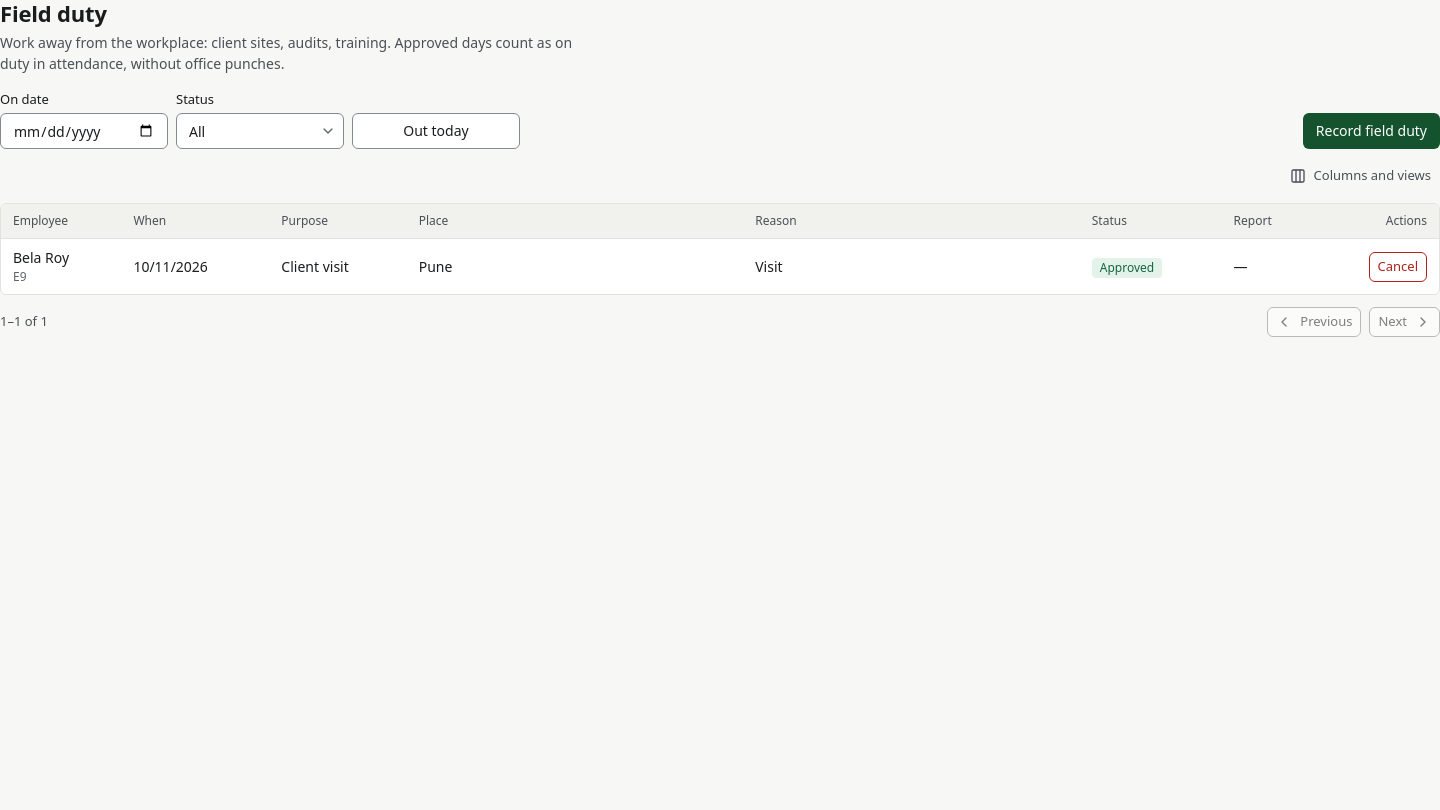
it: everyone › cancelling someone's duty names them, needs a reason and posts it
Click the button "Cancel" at point(1398, 266), box x1=1368 y1=252 x2=1427 y2=282
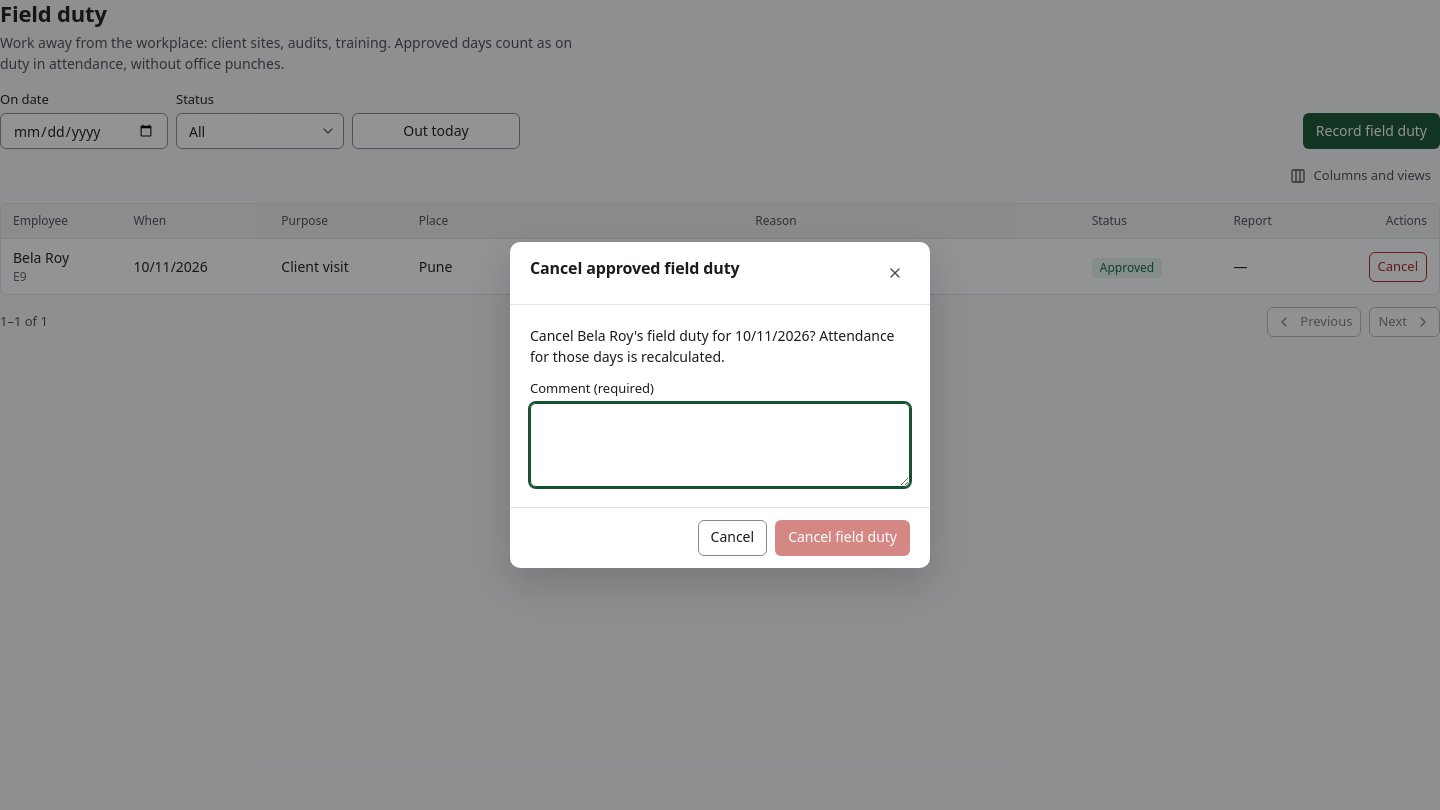
Now the text "Cancel Bela Roy's field duty" is shown, box x1=530 y1=326 x2=894 y2=366
Type "Duplicate" into the text box at point(720, 445), box x1=530 y1=403 x2=910 y2=487
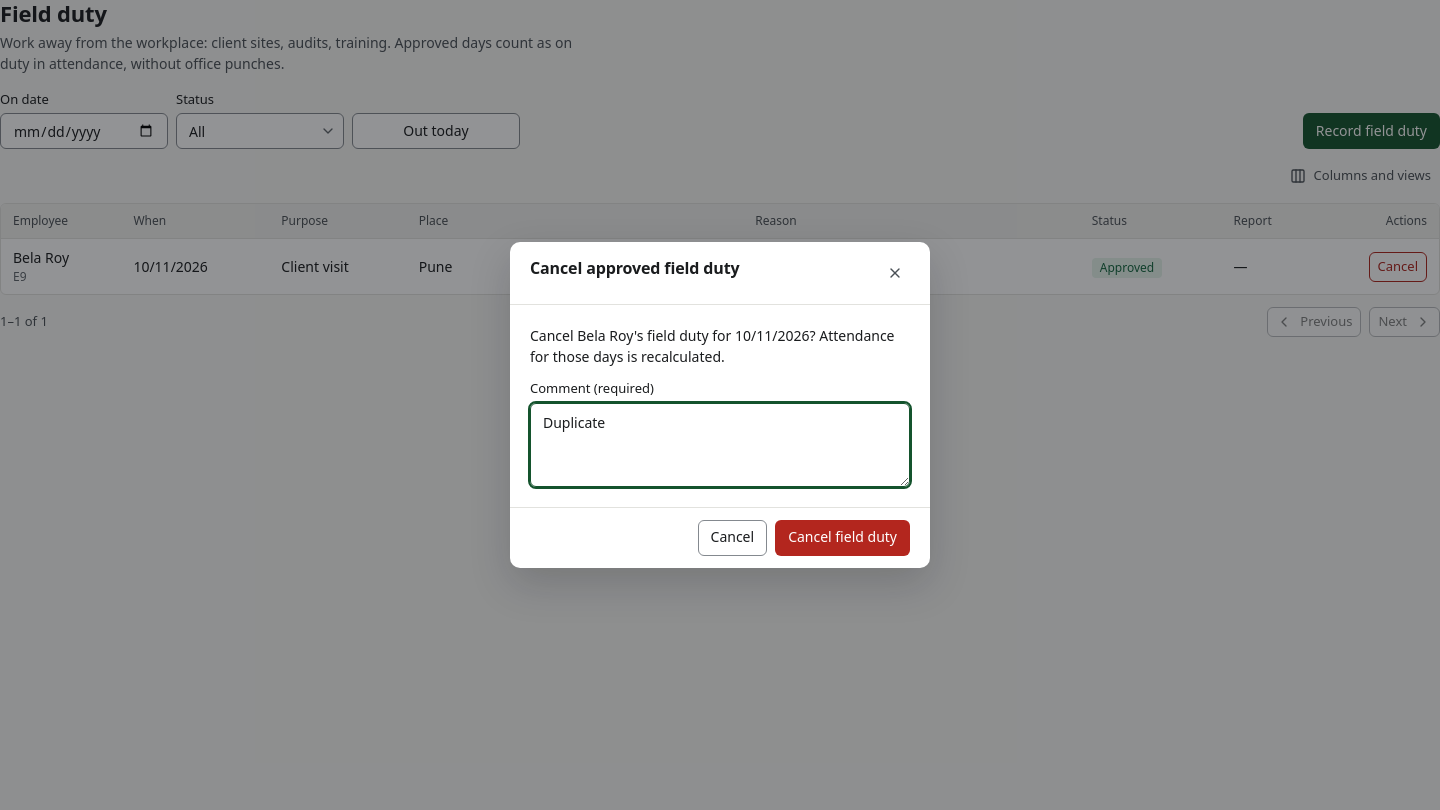
Click the button "Cancel field duty" at point(843, 538), box x1=775 y1=520 x2=910 y2=556
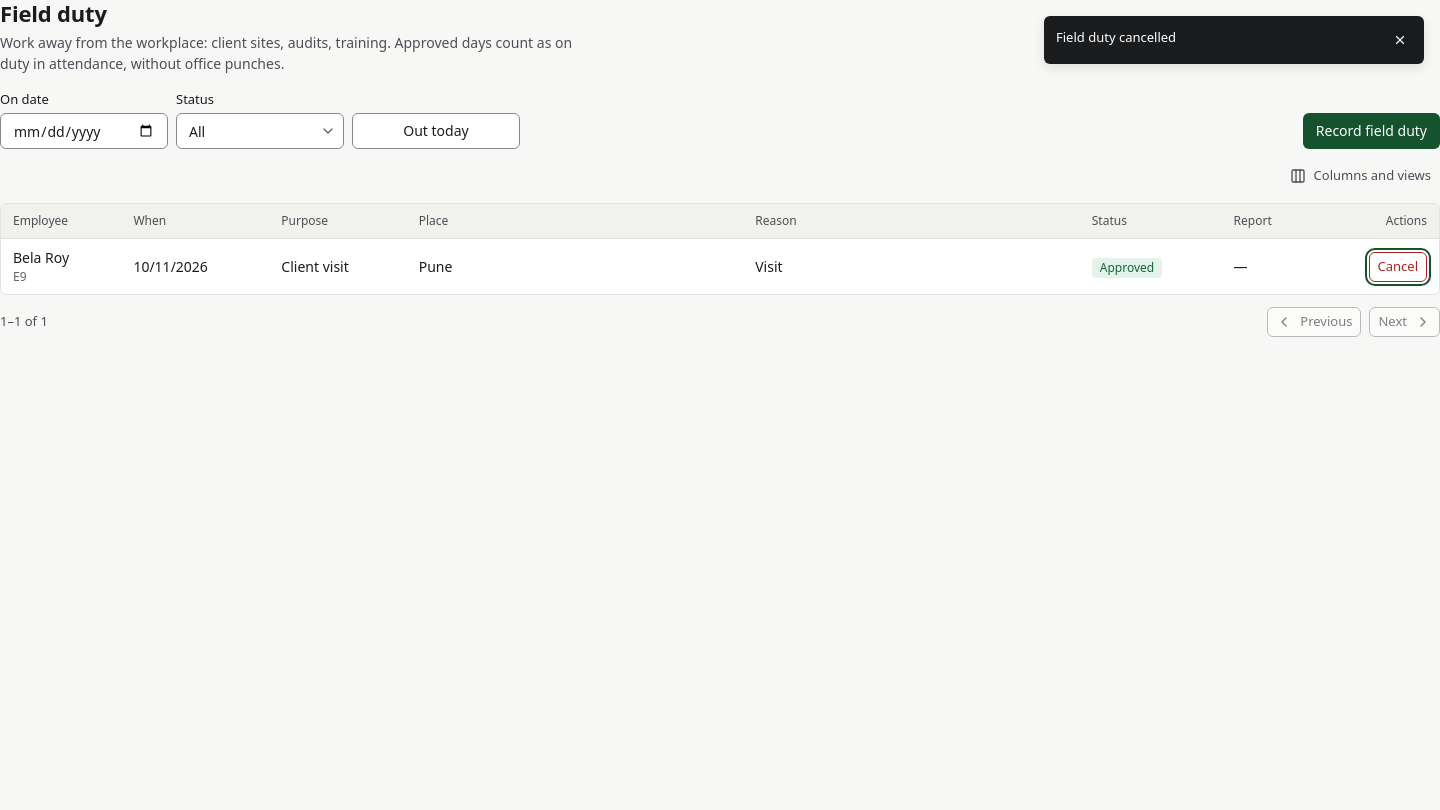
Now the text "Field duty cancelled" is shown, box x1=1056 y1=28 x2=1176 y2=46
